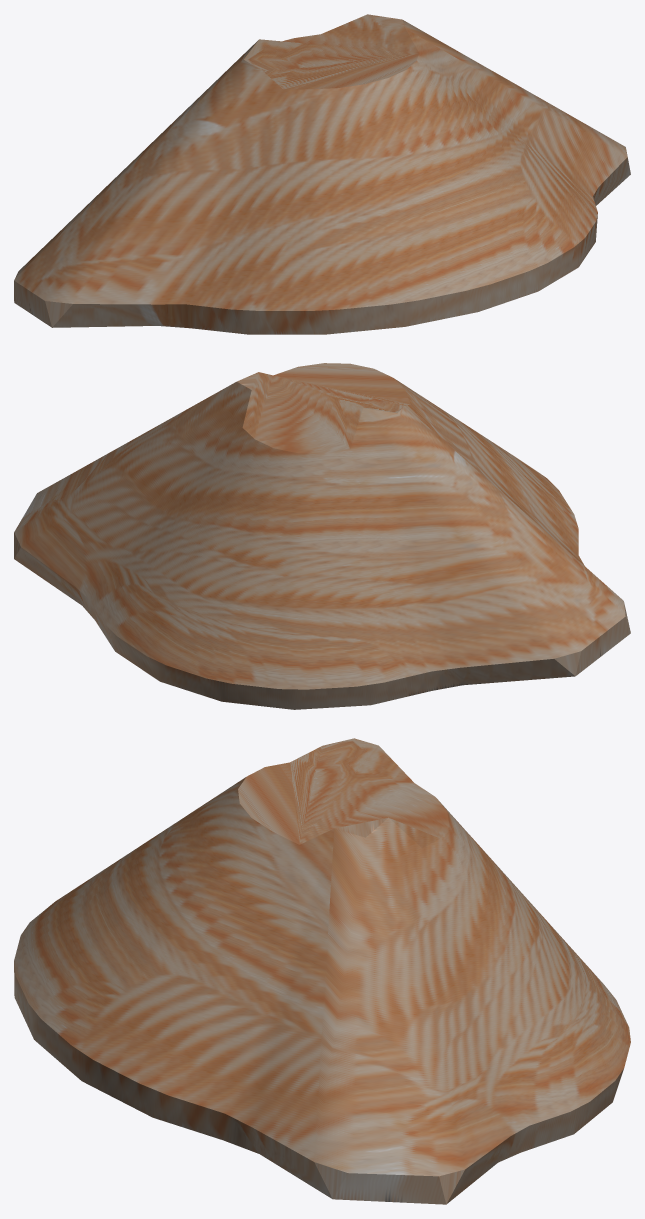
Rendered from roof8.fbx.
3 renders of one model, top to bottom at view 1: azimuth 30°, elevation 25°; view 2: azimuth 150°, elevation 25°; view 3: azimuth 270°, elevation 25°, orthographic. The views are drawn at different scales.
Visible parts, largest first — view 1: pCone3; view 2: pCone3; view 3: pCone3.
Part boxes in pixels (x1,y1,x2,y2): pCone3: (14,14,630,334); pCone3: (14,363,630,709); pCone3: (14,738,630,1204).
Size of the model in its own units: 9041 by 3515 by 6749.
1 material, 1 textured.
